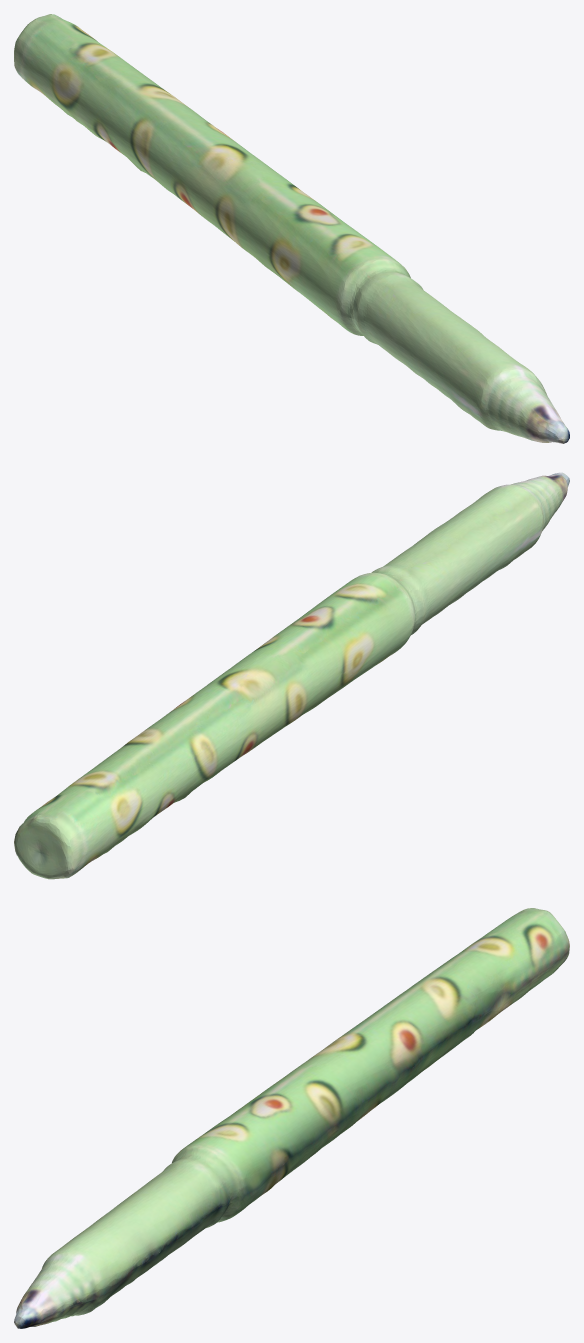
Rendered from scan_align.obj.
3 renders of one model, top to bottom at view 1: azimuth 30°, elevation 25°; view 2: azimuth 150°, elevation 25°; view 3: azimuth 330°, elevation 25°, orthographic.
Size of the model in its own units: 0.0108 by 0.0109 by 0.1349.
Materials: 1 (1 with a texture image).
